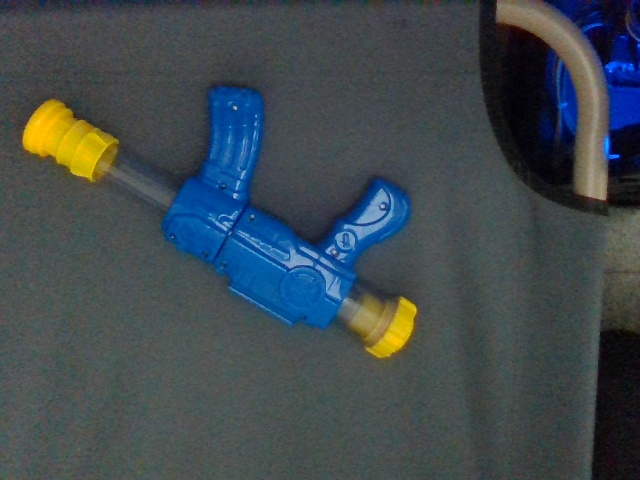screw hole: (331, 249, 340, 258), (380, 202, 388, 212), (230, 103, 238, 111), (299, 315, 307, 323), (218, 183, 227, 190), (248, 214, 256, 221), (221, 261, 227, 269), (169, 233, 175, 240), (202, 252, 208, 259)
toy: (22, 84, 418, 358)
